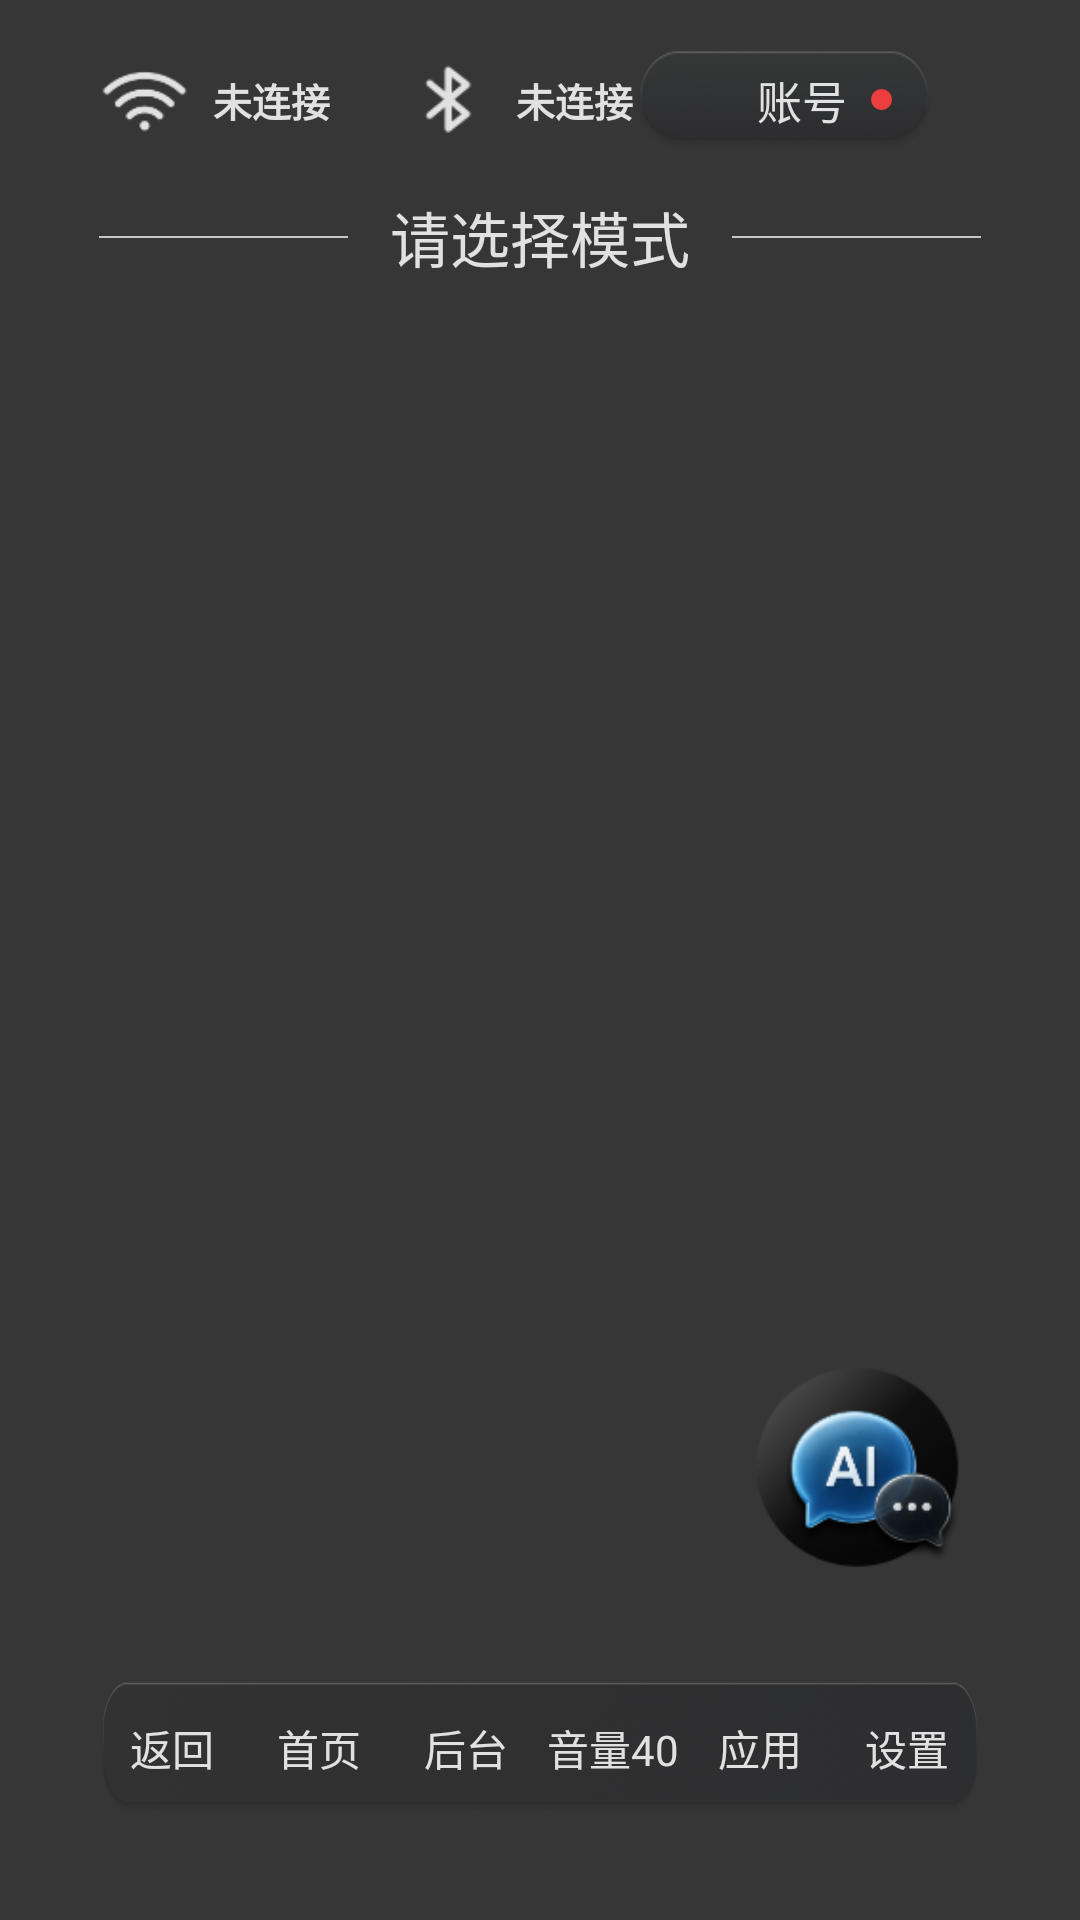

Screen size 1080×1920. Icon name, then its box in pixels as region(x1, y1, x2, y2):
wifi: region(103, 72, 187, 131)
